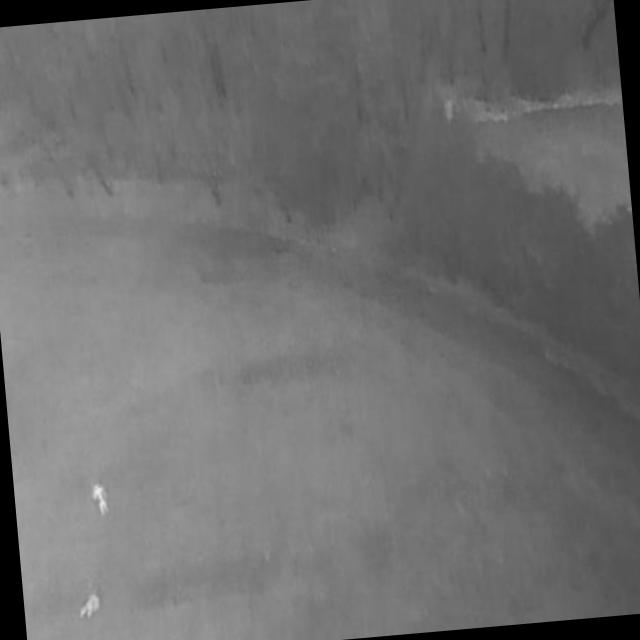person: (91, 483, 113, 522)
